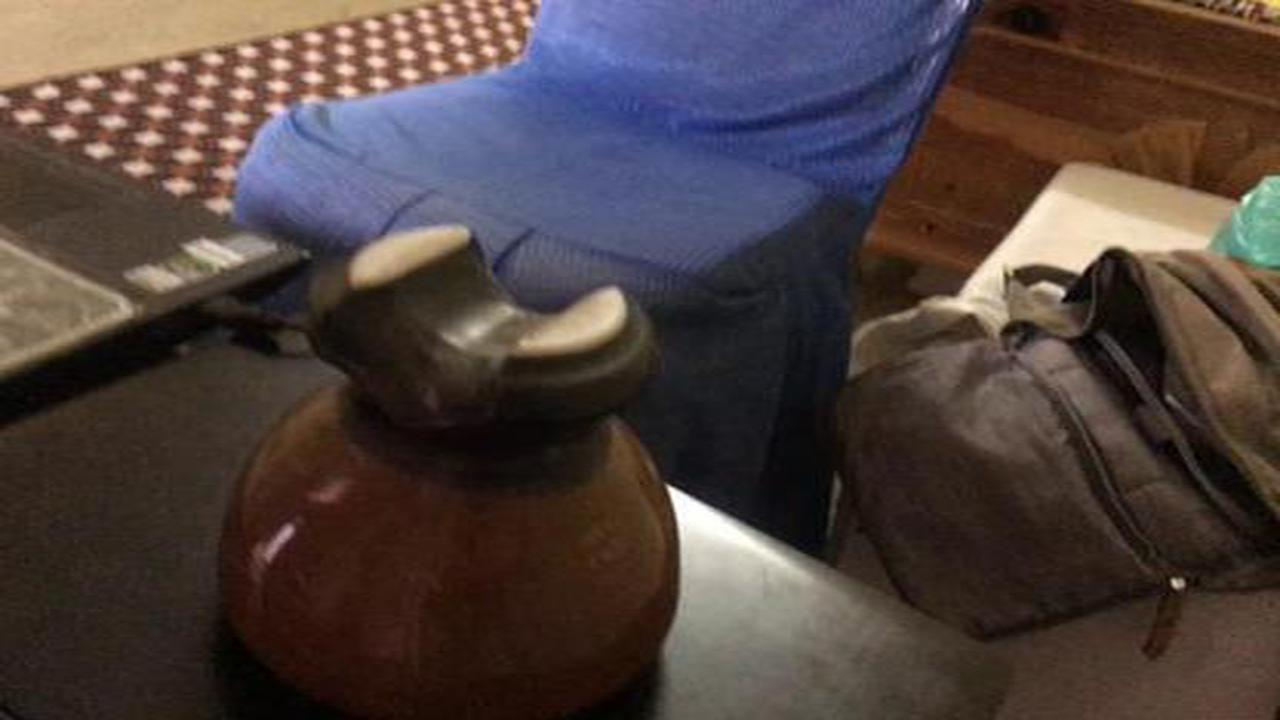insulator_pin: (201, 205, 696, 717)
